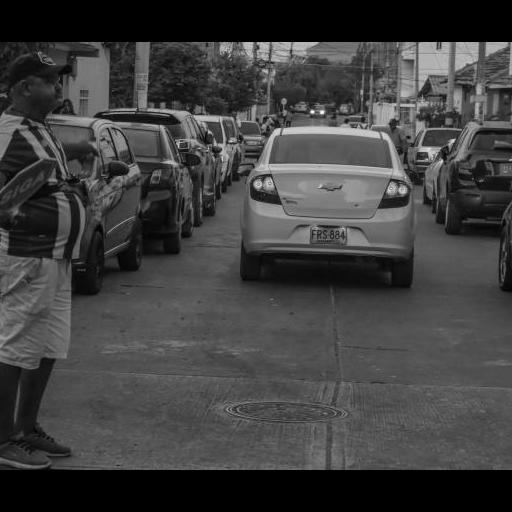placa: (310, 225, 346, 246), (499, 163, 512, 173)
